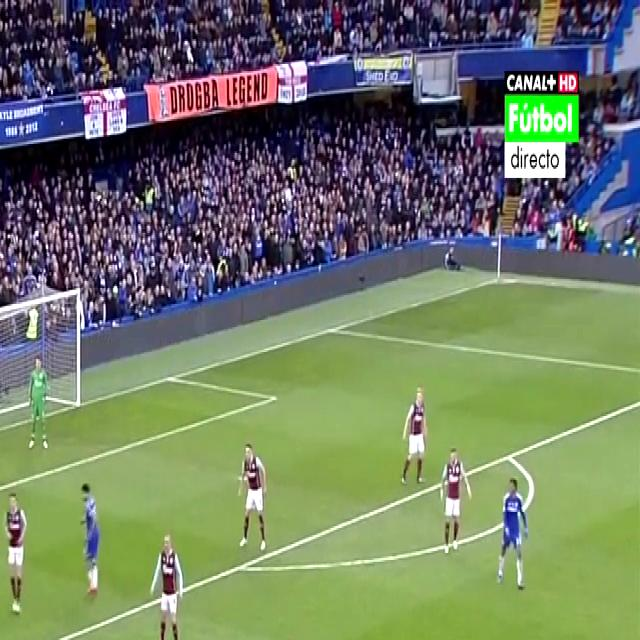goalkeeper: (26, 352, 54, 458)
referee: (274, 626, 311, 640)
soccer-player: (494, 463, 534, 598), (148, 522, 192, 640), (235, 429, 274, 560), (74, 470, 110, 611), (436, 434, 472, 559), (0, 480, 30, 624), (398, 376, 431, 499)
